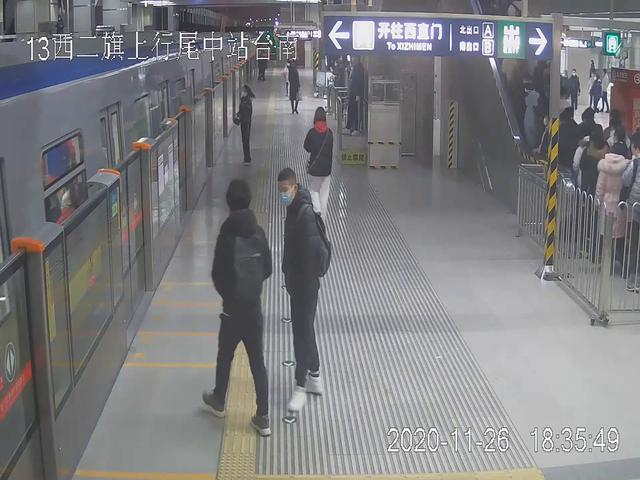person: (204, 170, 279, 435), (273, 158, 330, 409), (302, 100, 337, 265), (229, 83, 256, 173), (347, 53, 368, 138), (285, 60, 301, 117)
